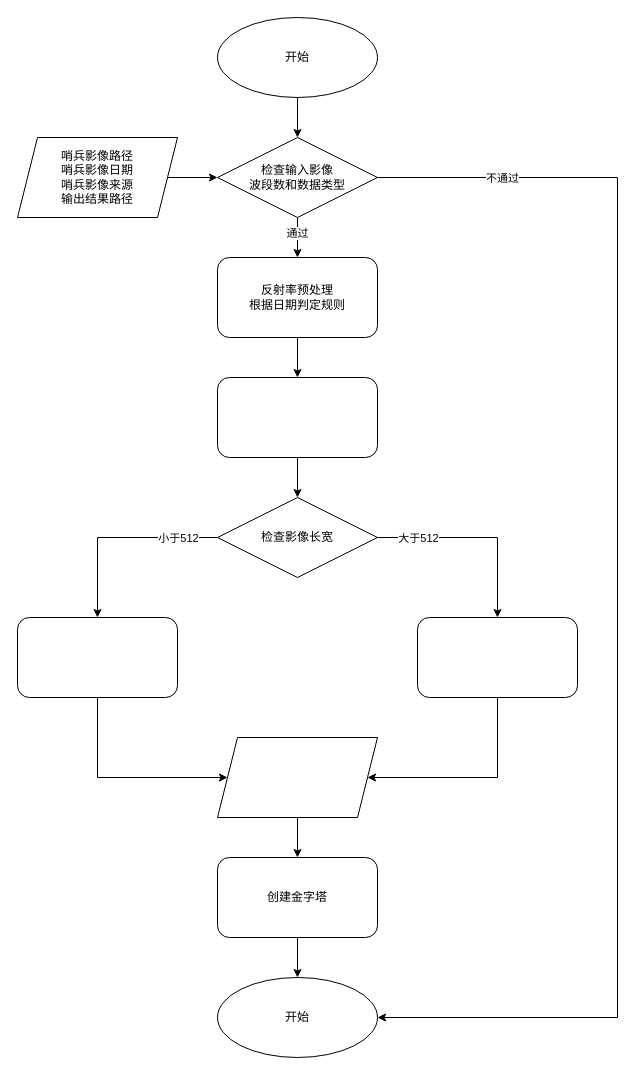
The diagram is 643 pixels wide and 1075 high, and some of its shapes have lost their labels. Each missing label, with the centre of its shape:
"全图处理" belongs at (97,657).
"分块处理" belongs at (497,657).
"超分结果" belongs at (297,777).
"重采样" belongs at (297,417).
